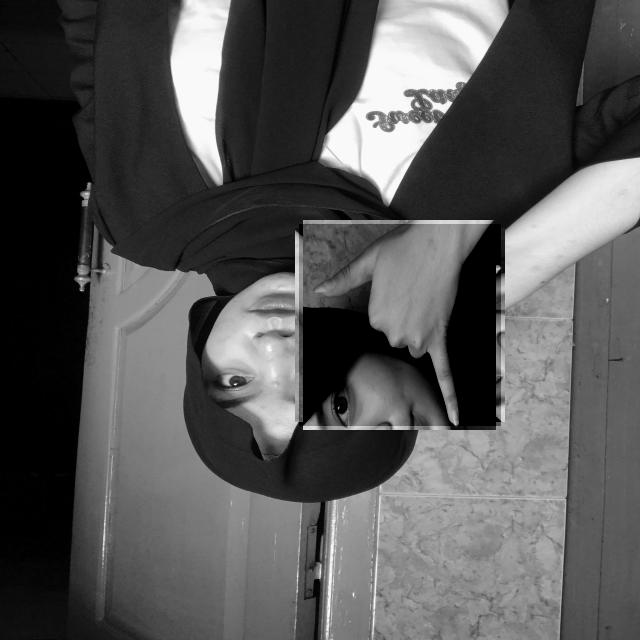telpon: (299, 224, 501, 426)
